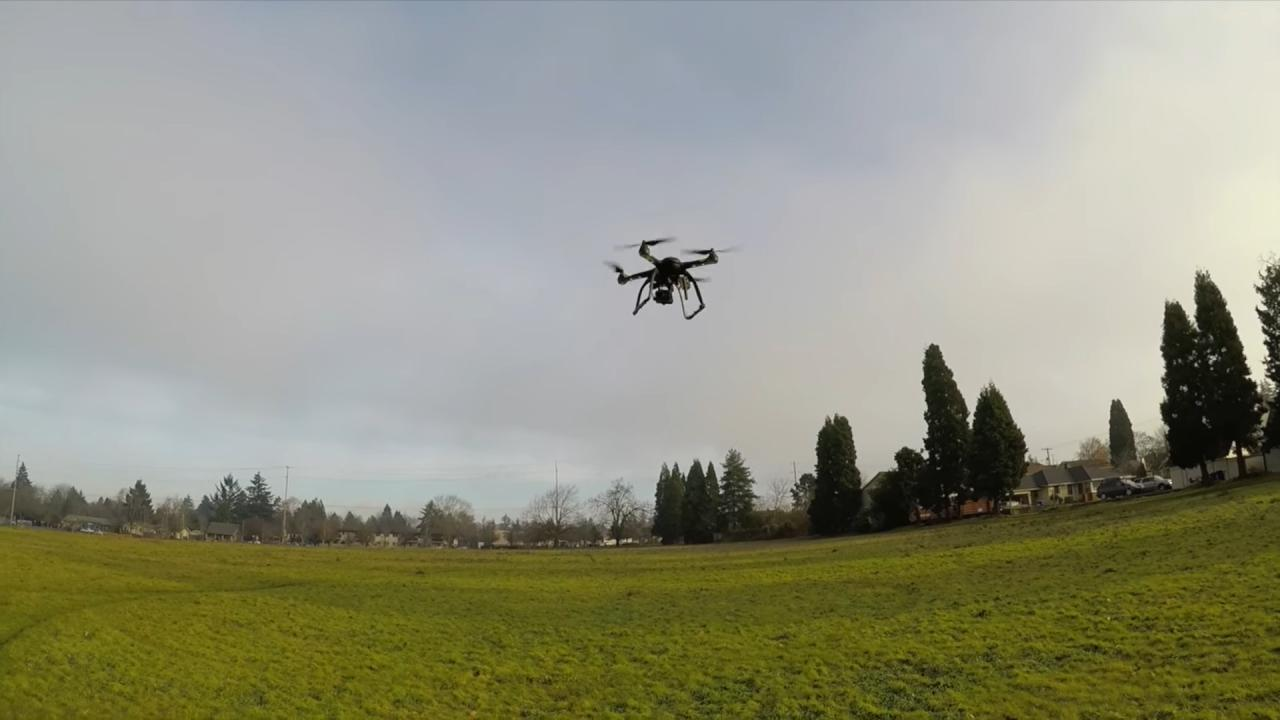Drone: (597, 231, 748, 325)
